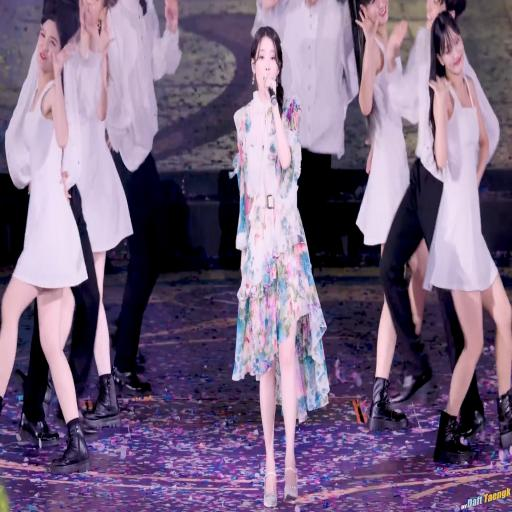IU: (250, 25, 284, 96)
